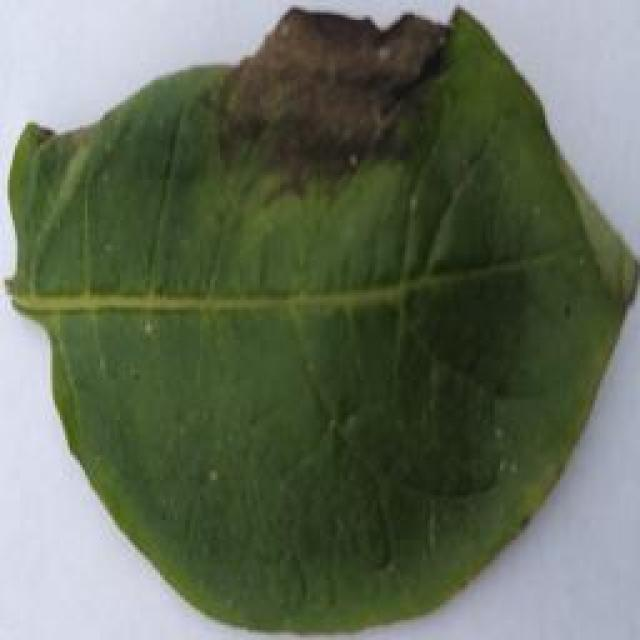Potato_Late_Blight: (6, 8, 628, 633)
